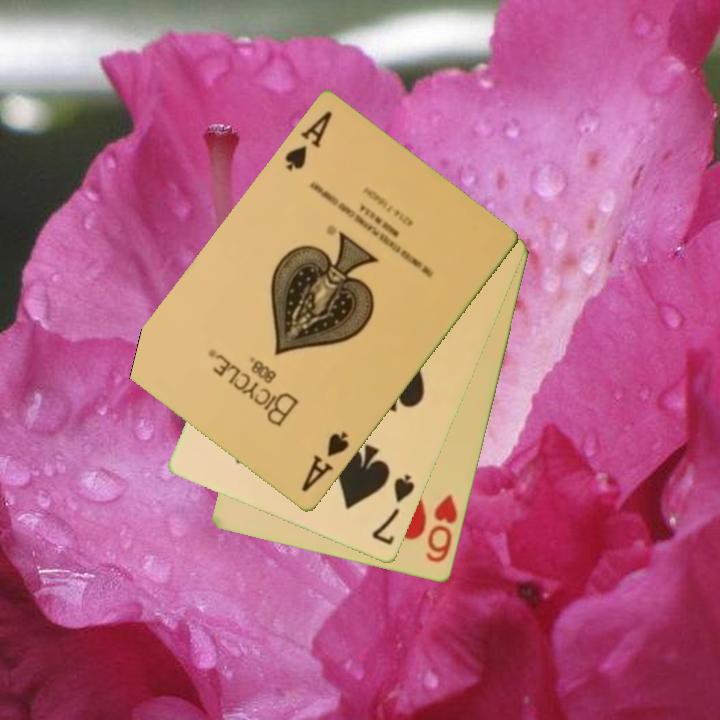6h: (422, 491, 461, 566)
7s: (368, 471, 418, 548)
As: (297, 428, 352, 495), (281, 107, 336, 174)
